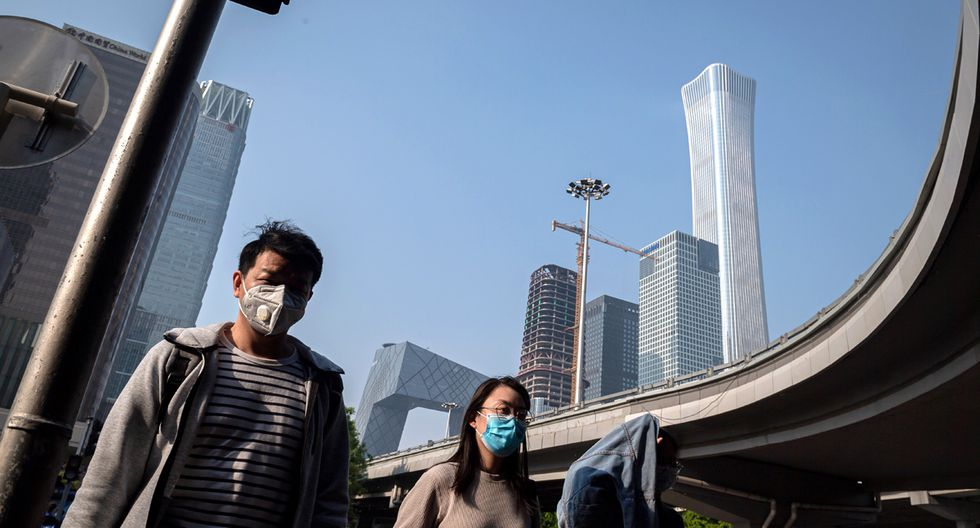with_mask: (234, 232, 323, 339), (462, 375, 533, 463)
